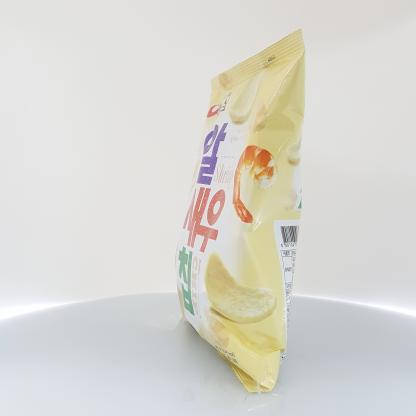Plastic Packaging: (168, 22, 324, 402)
